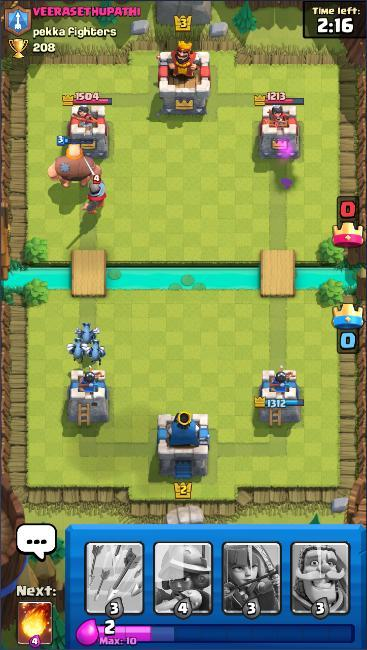ally_giant: (47, 134, 104, 190)
ally_minion: (82, 337, 107, 367), (73, 320, 101, 346), (66, 336, 92, 364)
enemy_knight: (75, 155, 109, 213)
